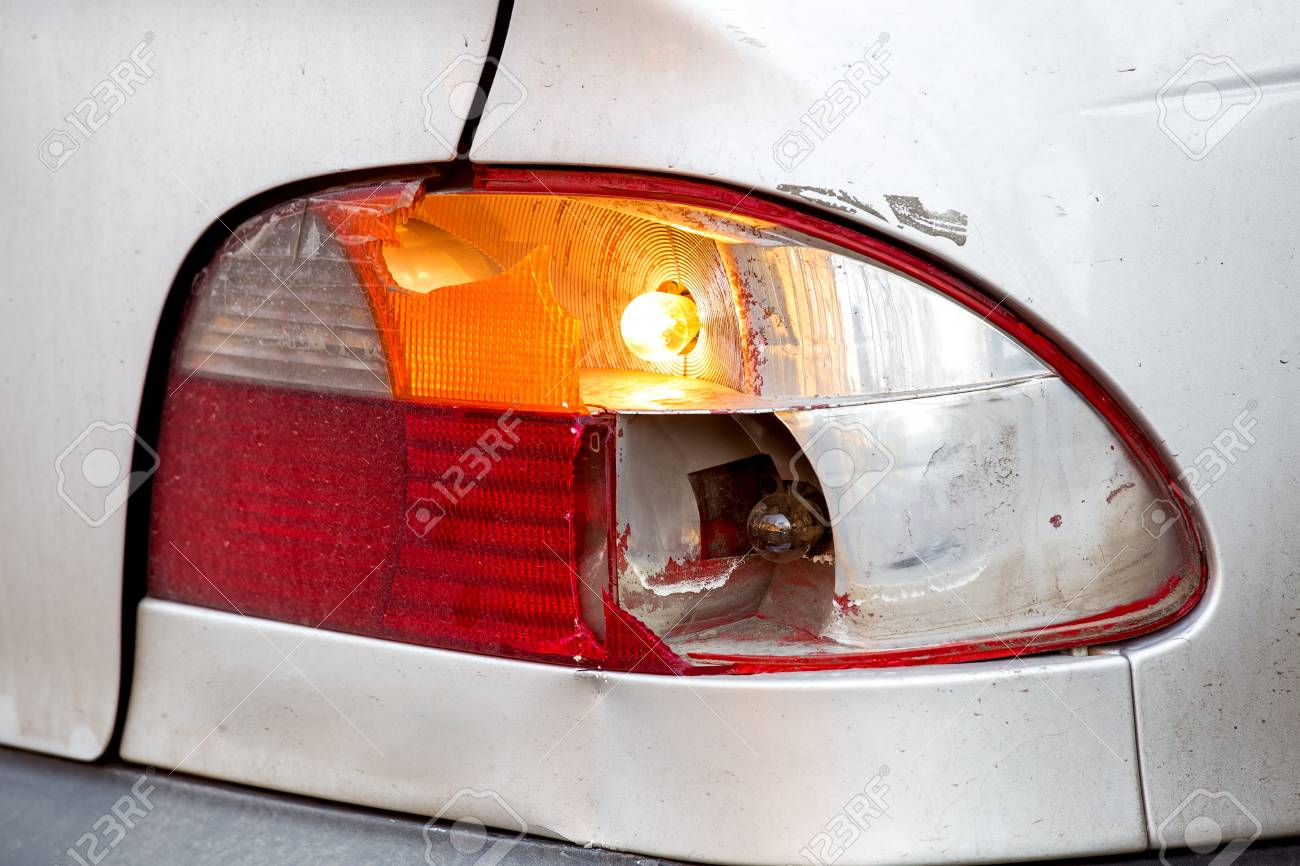broken: (123, 166, 1228, 674)
